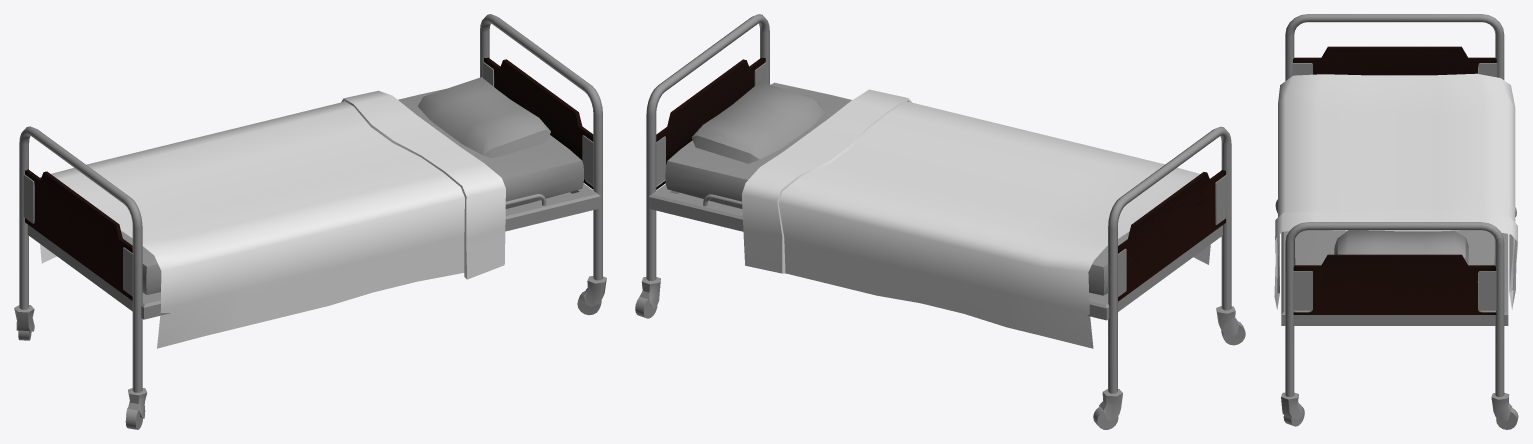
File: Bed_Hospital New - Backup.fbx
The picture shows the model from 3 angles, left to right: view 1: azimuth 30°, elevation 25°; view 2: azimuth 150°, elevation 25°; view 3: azimuth 270°, elevation 25°; orthographic projection. The views are drawn at different scales.
Parts seen in each view (by area): view 1: Sheet, Bed, Pillow; view 2: Sheet, Bed, Pillow; view 3: Sheet, Bed, Pillow.
Part boxes in pixels (box(x1,y1,x2,y2)): Sheet: box(40, 90, 505, 348); Bed: box(14, 14, 606, 429); Pillow: box(417, 77, 550, 157); Sheet: box(742, 89, 1210, 348); Bed: box(635, 14, 1245, 429); Pillow: box(691, 81, 825, 163); Sheet: box(1274, 73, 1518, 309); Bed: box(1275, 14, 1518, 429); Pillow: box(1334, 230, 1468, 265).
Bounding box in the file's own units: 94.81 × 41.47 × 44.64.
4 materials, 1 textured.
